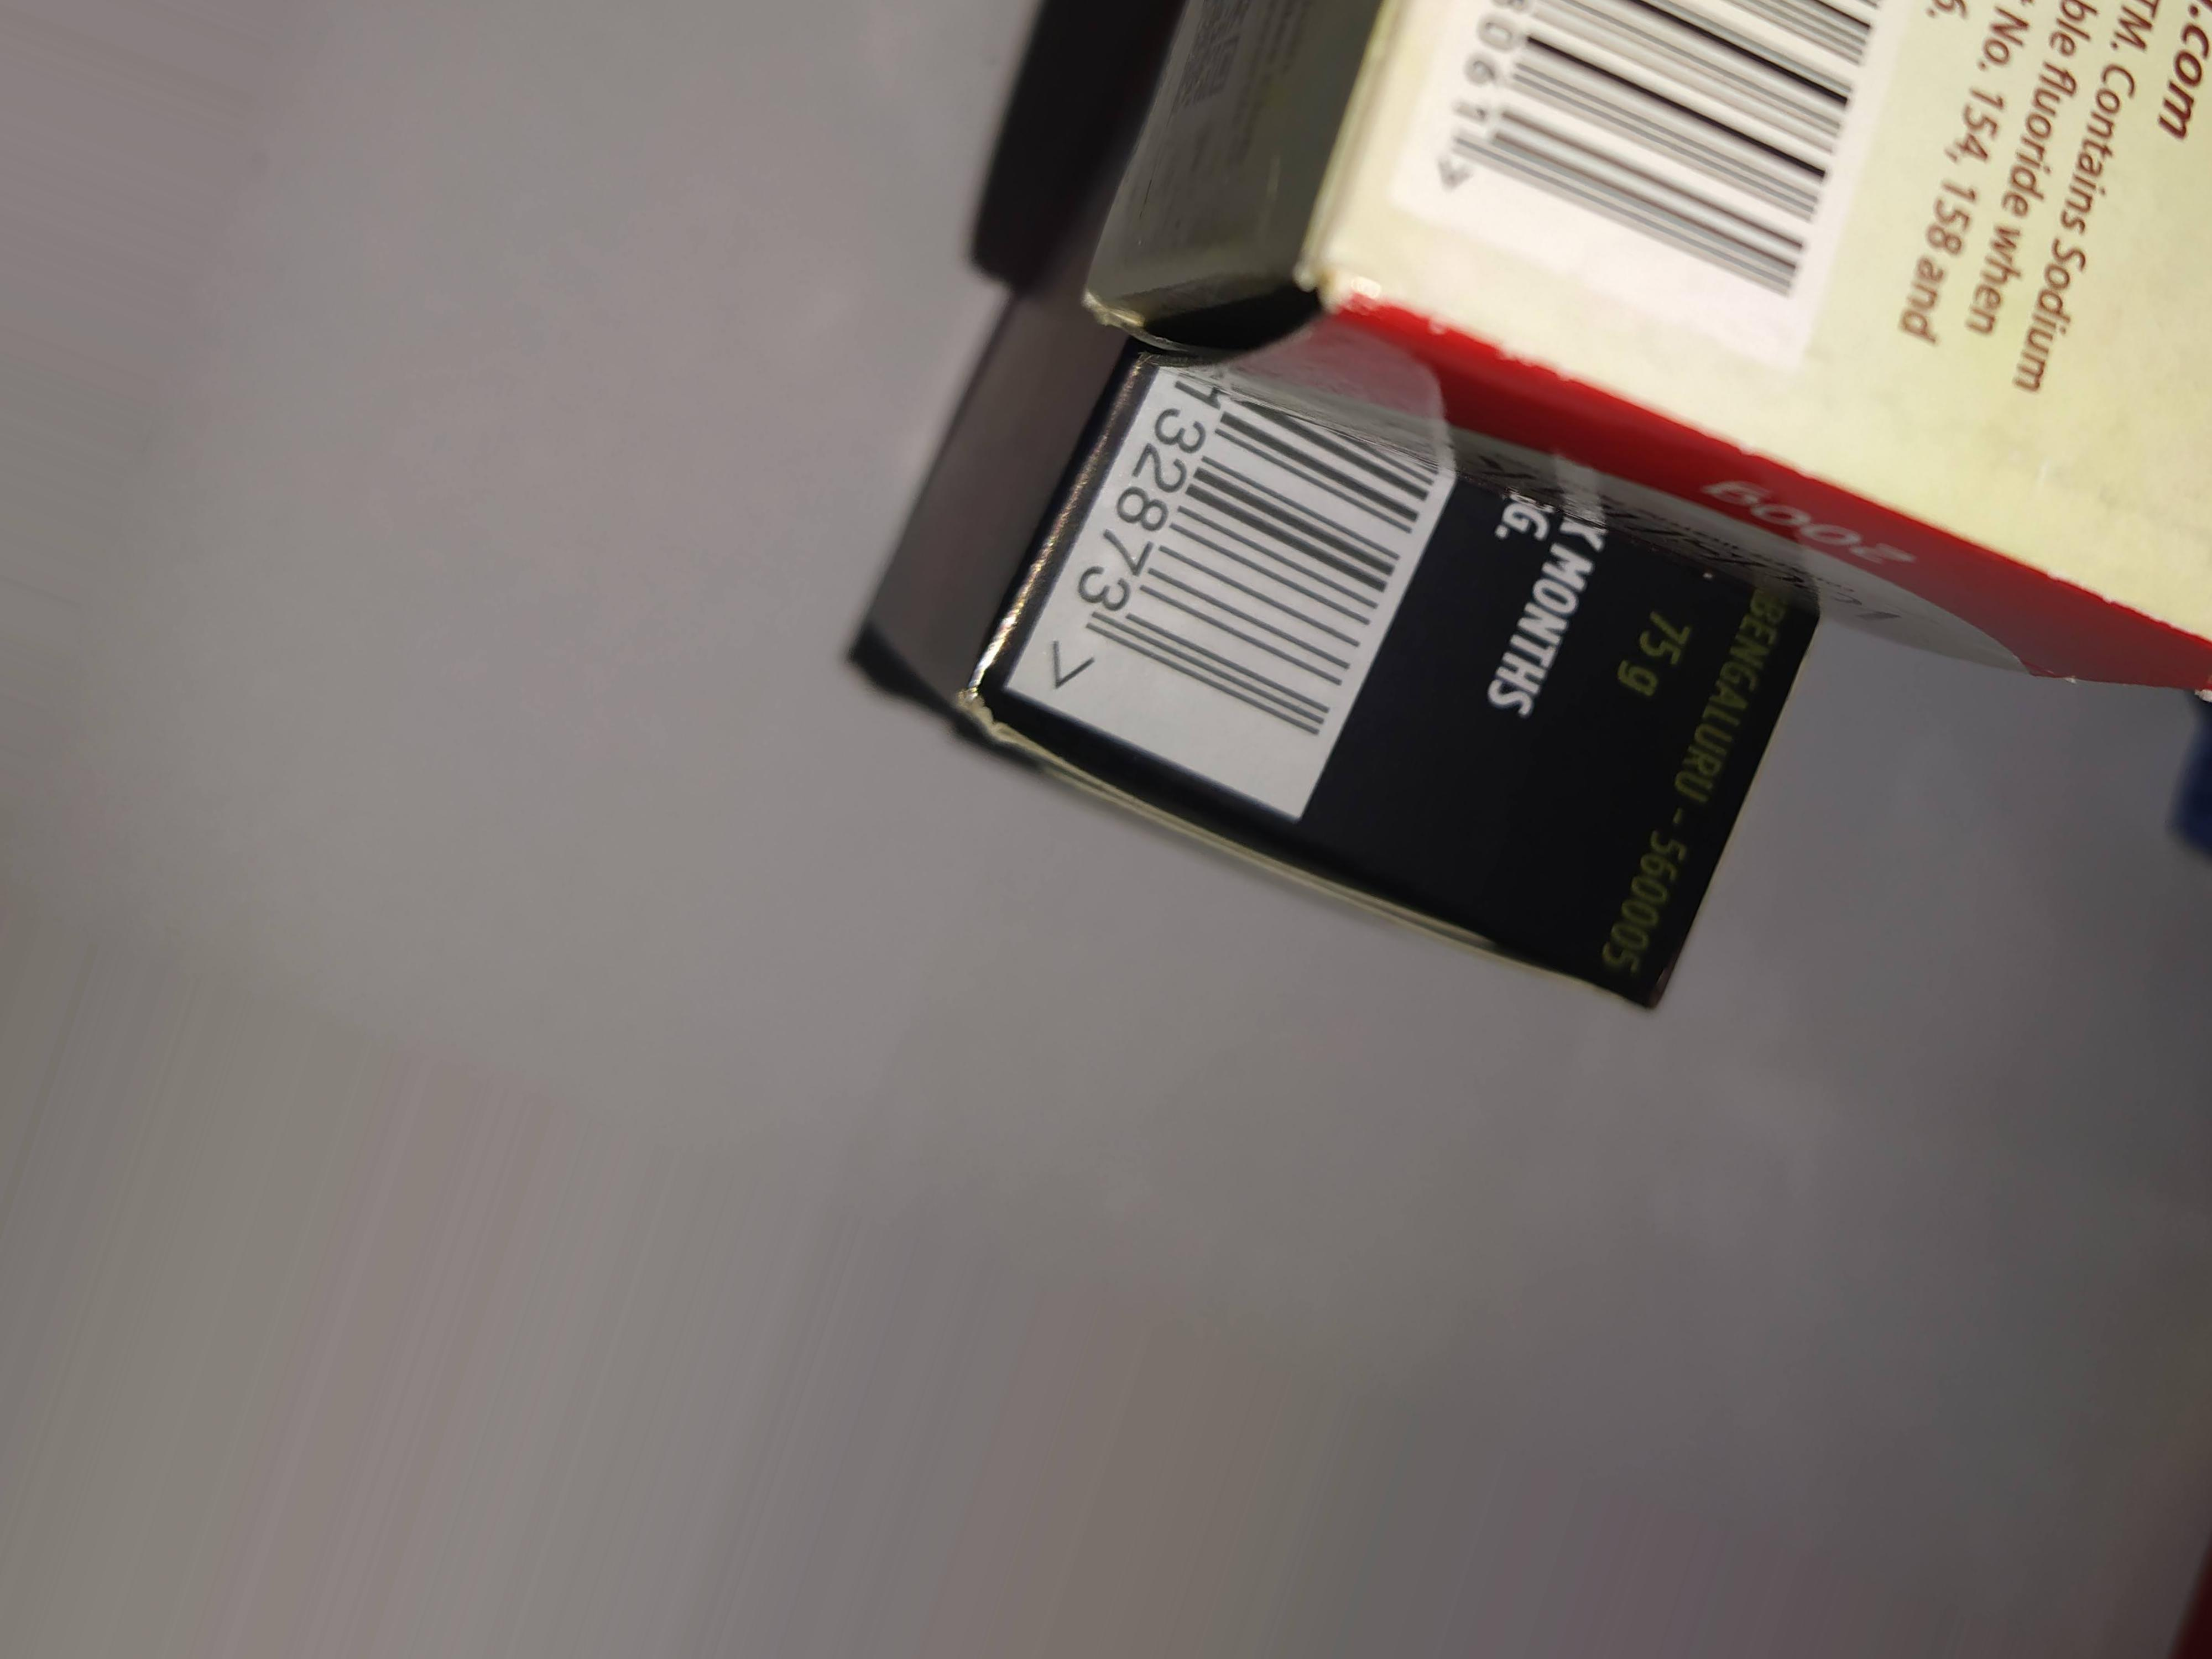Bar_code: (1031, 361, 1439, 817), (1367, 0, 1864, 369)
